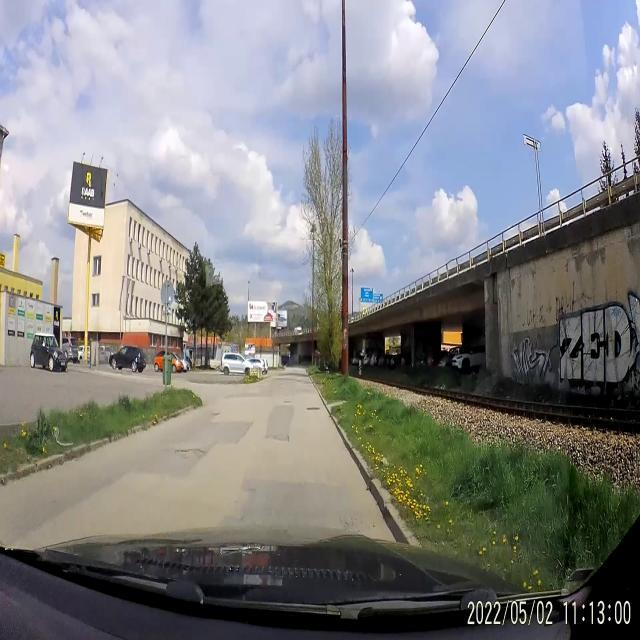Manhole: (306, 402, 322, 418)
Pothole: (172, 442, 209, 468), (268, 428, 294, 448), (212, 408, 226, 426)
